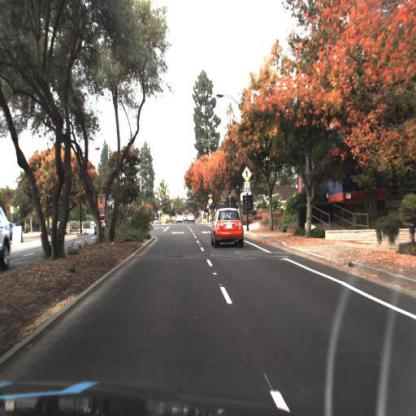car: (211, 208, 246, 250), (93, 213, 108, 237)
